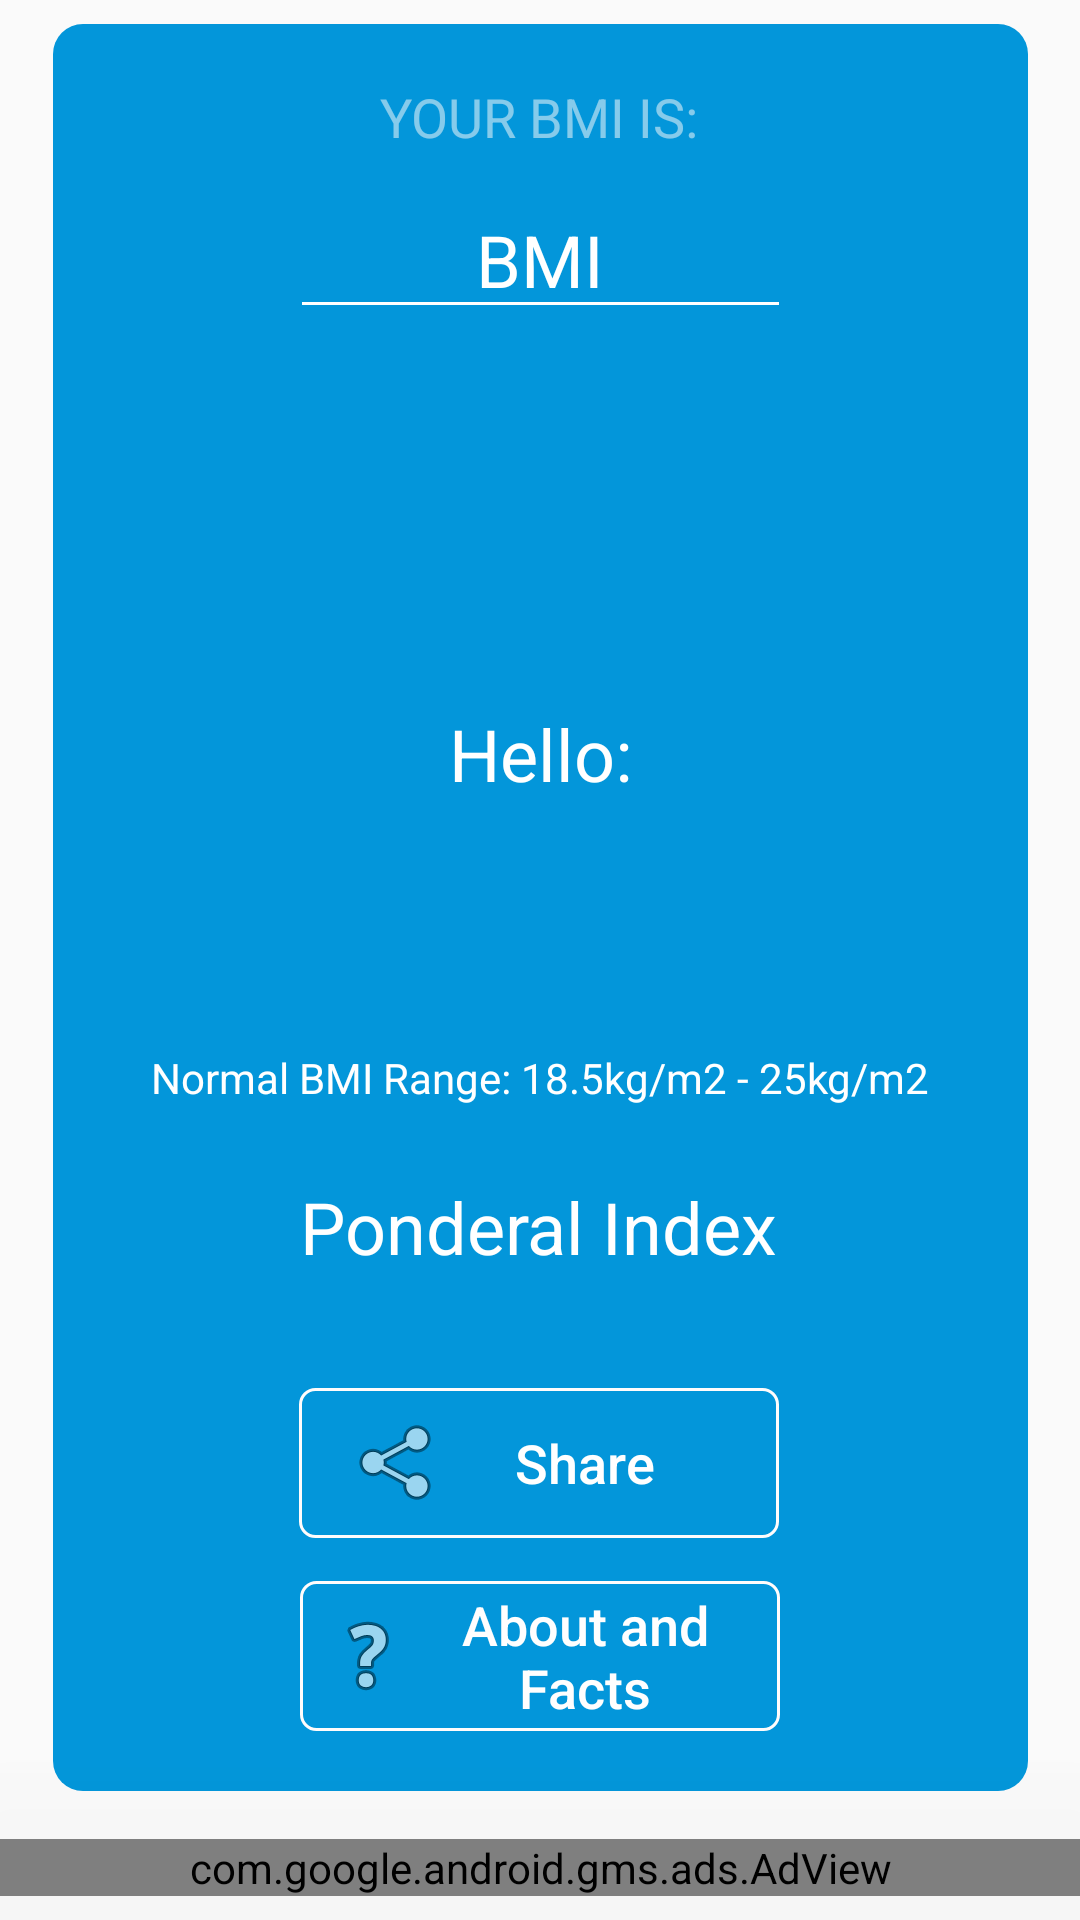

Named icons in this screenshot (1080 × 1920) and their bounding boxes, (x1, y1, x2, y2):
help: (347, 1622, 389, 1690)
